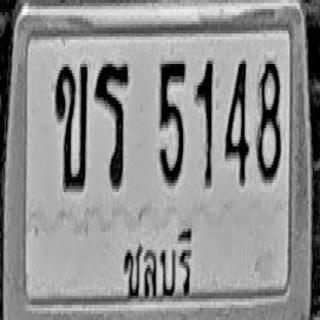A02: (54, 62, 87, 190)
A35: (94, 61, 129, 189)
N01: (195, 58, 213, 189)
N04: (224, 58, 249, 186)
N05: (158, 58, 185, 186)
N08: (256, 56, 281, 181)
P13: (120, 223, 194, 304)
